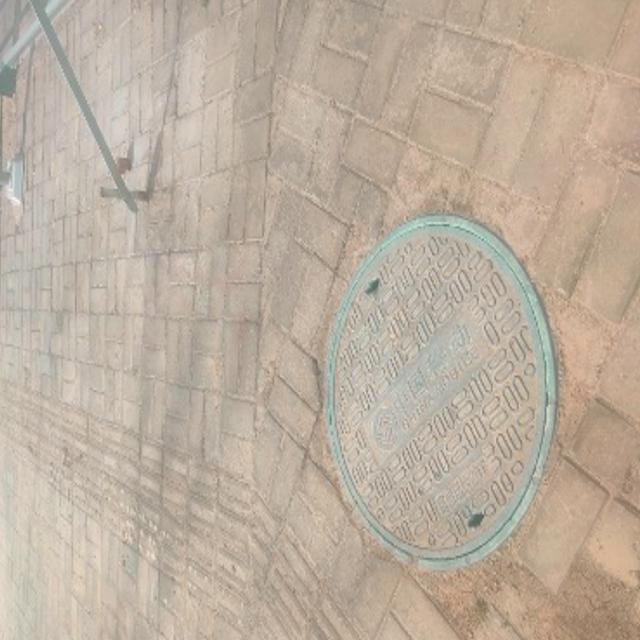good: (326, 213, 558, 568)
